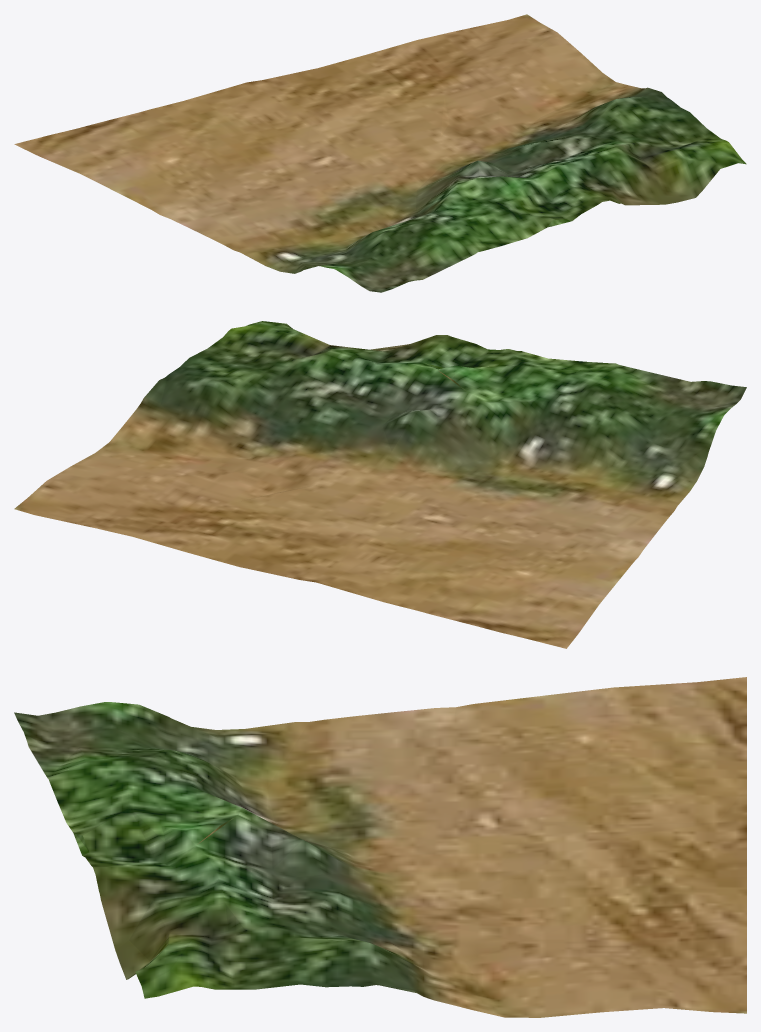
Rendered from Tile_+001_+000_L23_000111000.glb.
3 views of the same model, one above another, from view 1: azimuth 30°, elevation 25°; view 2: azimuth 150°, elevation 25°; view 3: azimuth 270°, elevation 25° (orthographic). The views are drawn at different scales.
Parts seen in each view (by area): view 1: rtc; view 2: rtc; view 3: rtc.
Boxes of the visible parts, x1,y1,x2,y2 form: rtc: [14, 14, 746, 292]; rtc: [14, 321, 746, 648]; rtc: [14, 677, 746, 1017].
Bounding box in the file's own units: 3.36 × 0.276 × 3.03.
1 material, 1 textured.
